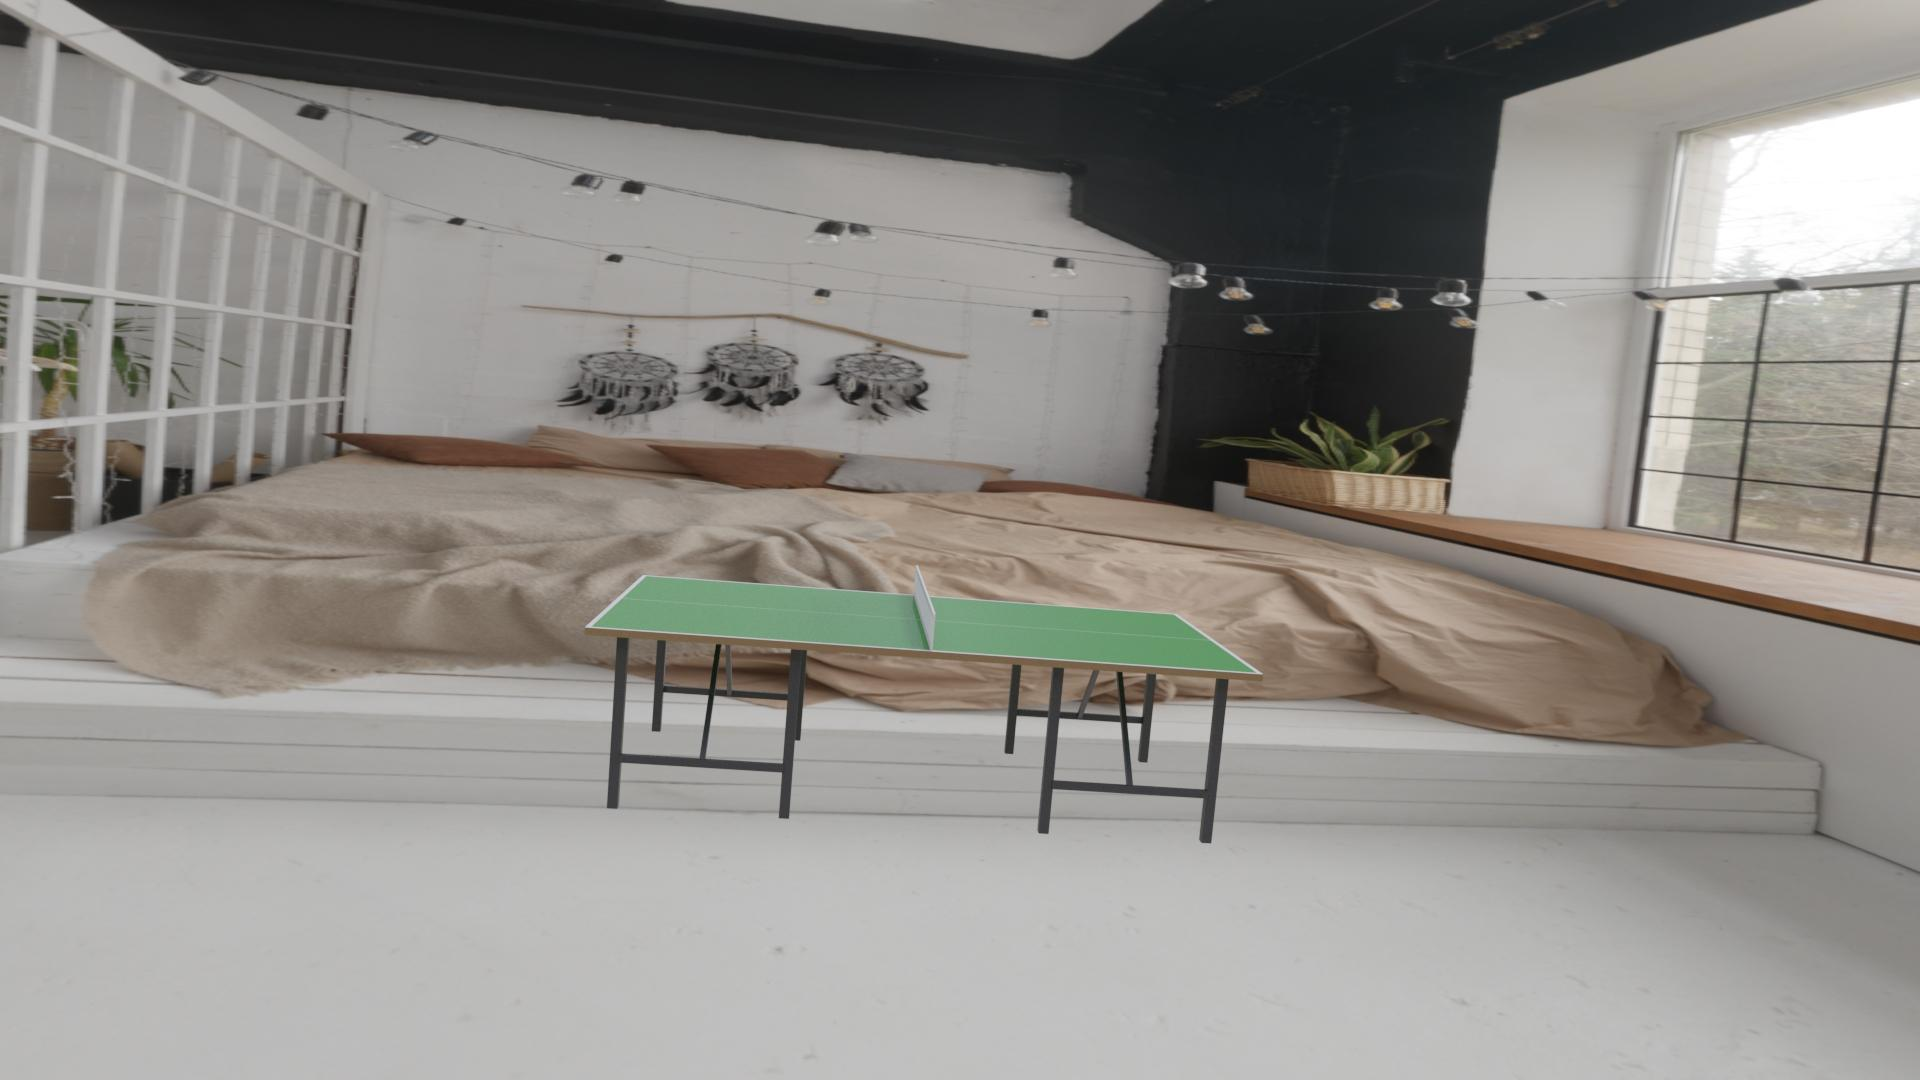table: (591, 576, 1257, 673)
